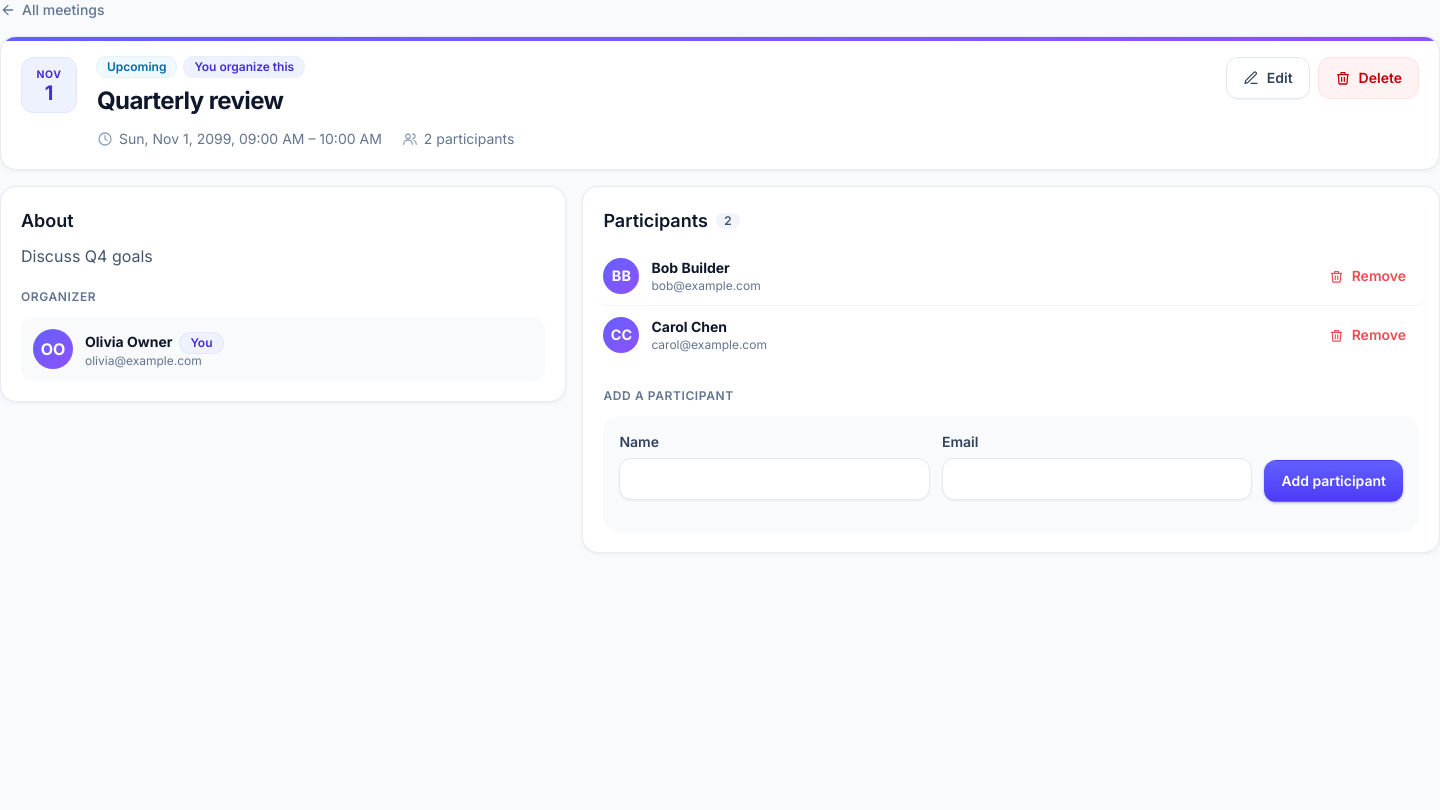
MeetingDetailPage › clears a stale add-participant error when the list changes
Expected: the heading "Quarterly review" is shown, [97,86,283,115]
Type "Bob" into the field labelled "Name".
click(775, 479); type("Bob")  # box [619,458,930,500]
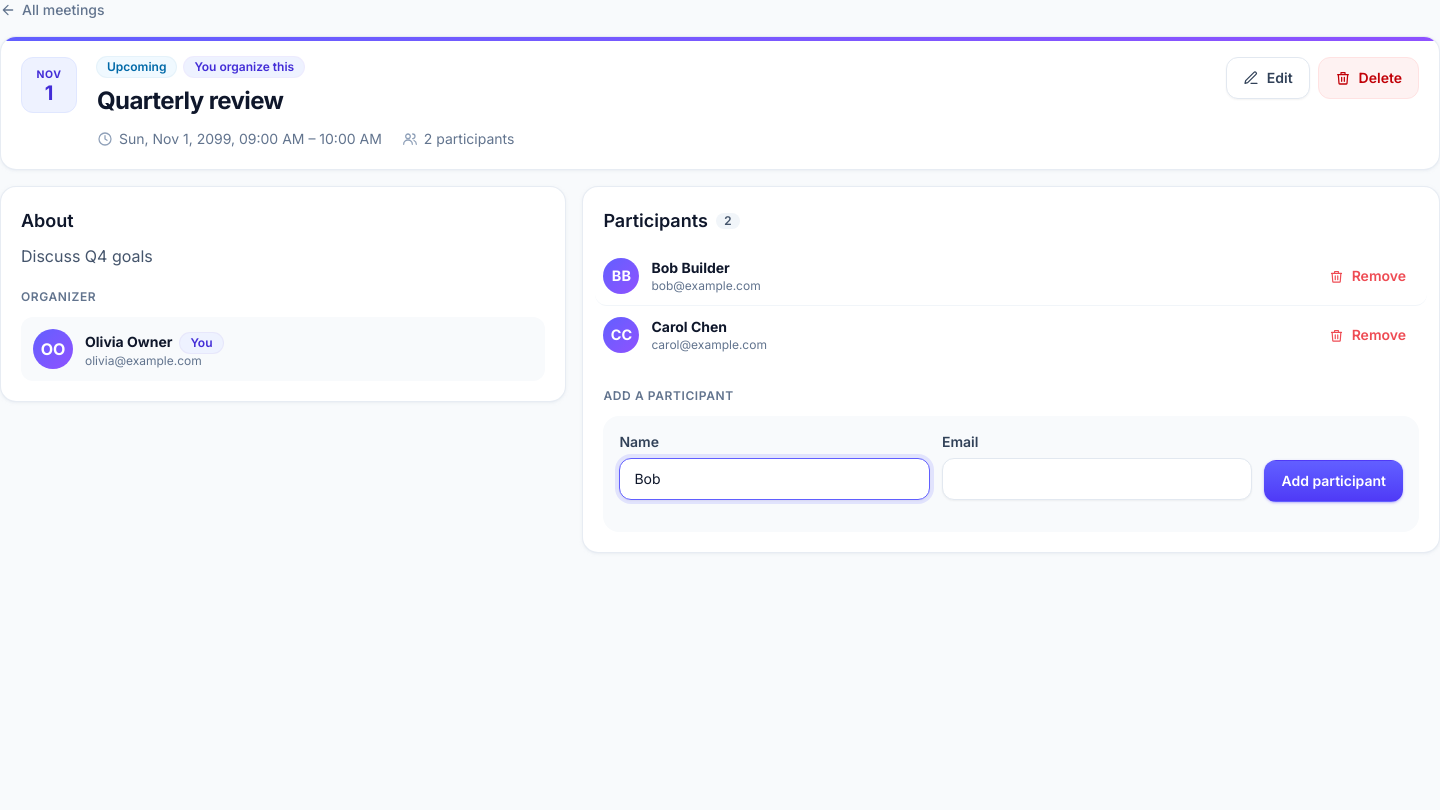
Type "bob@example.com" into the field labelled "Email".
click(1097, 479); type("bob@example.com")  # box [942,458,1252,500]
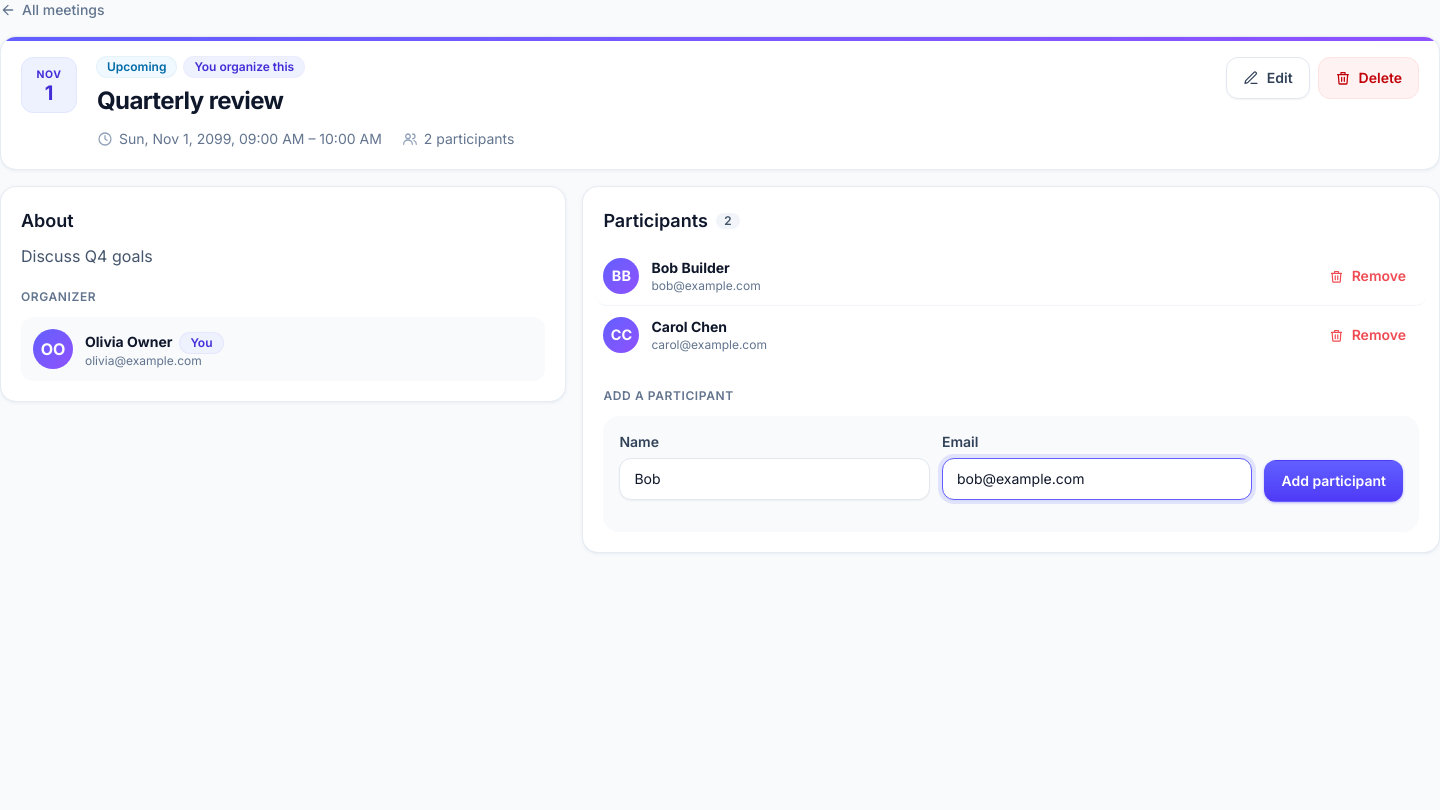
Click the button "Add participant".
click(1334, 481)  # box [1264,460,1403,502]
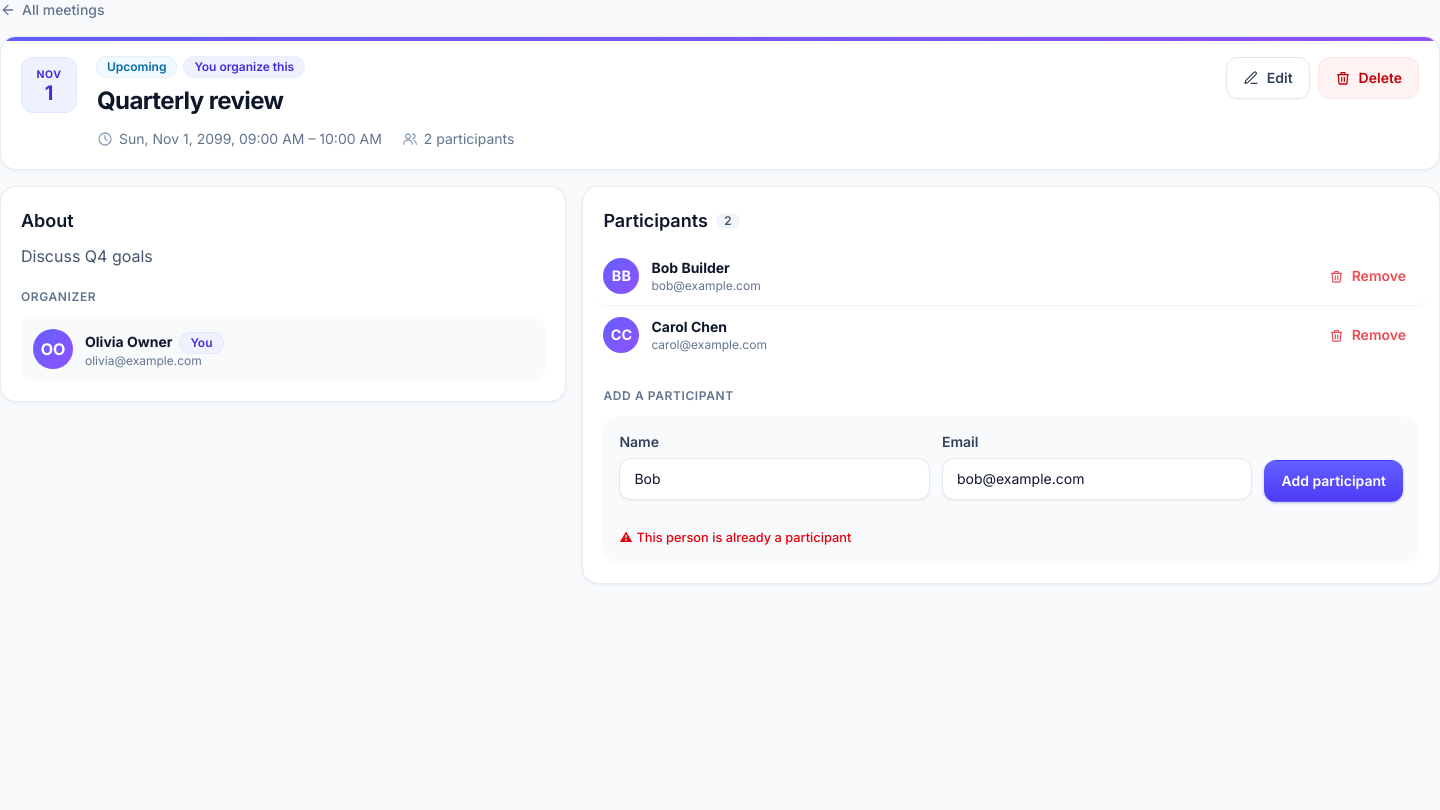
Result: the text "This person is already a participant" is shown at [636,530,851,545]
Click the button with aria-label "Remove Bob Builder".
click(1367, 276)  # box [1316,257,1419,295]
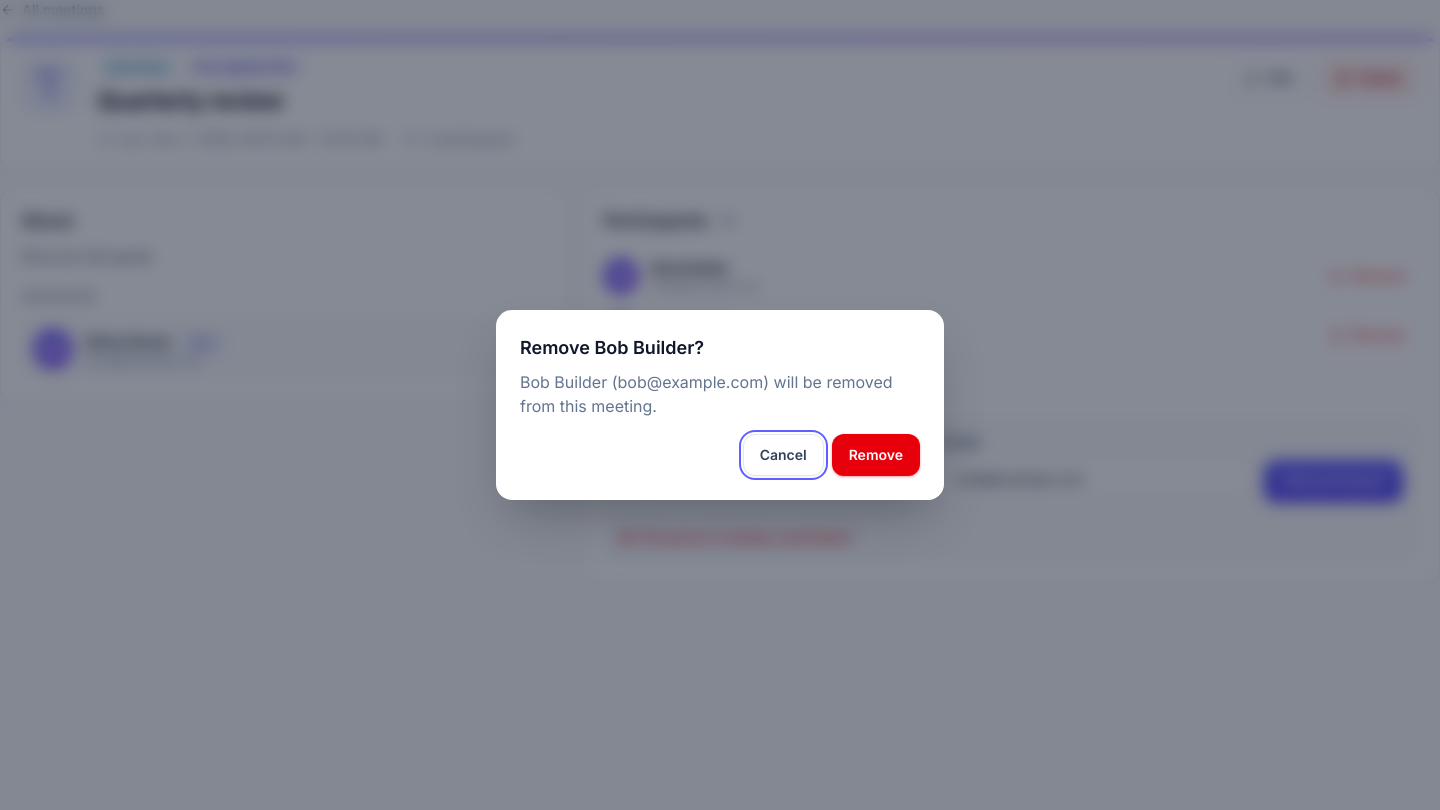
Click the button "Remove".
click(876, 455)  # box [832,434,920,476]
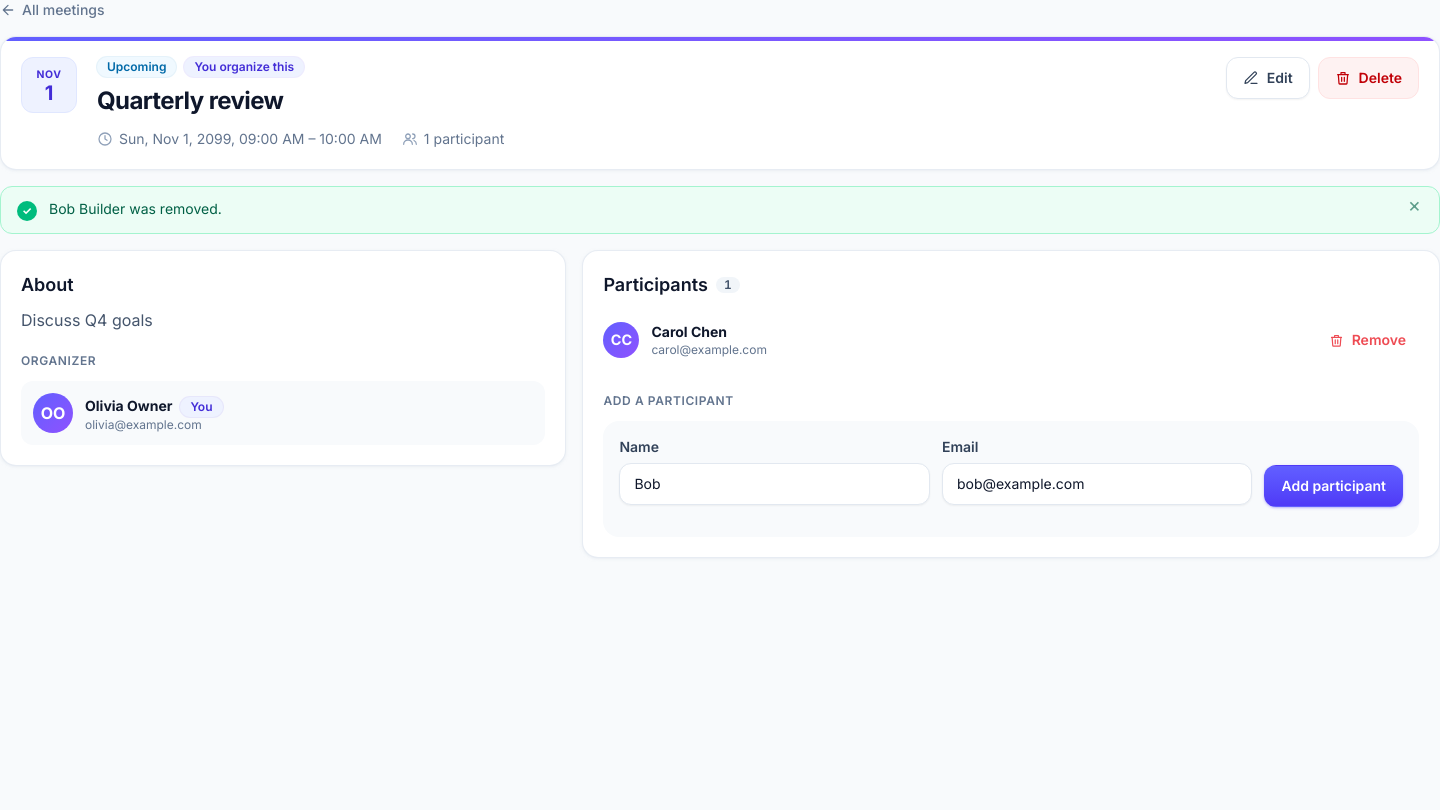
Result: the text "Bob Builder was removed." is shown at [49,200,222,217]
Result: the text "This person is already a participant" is gone
